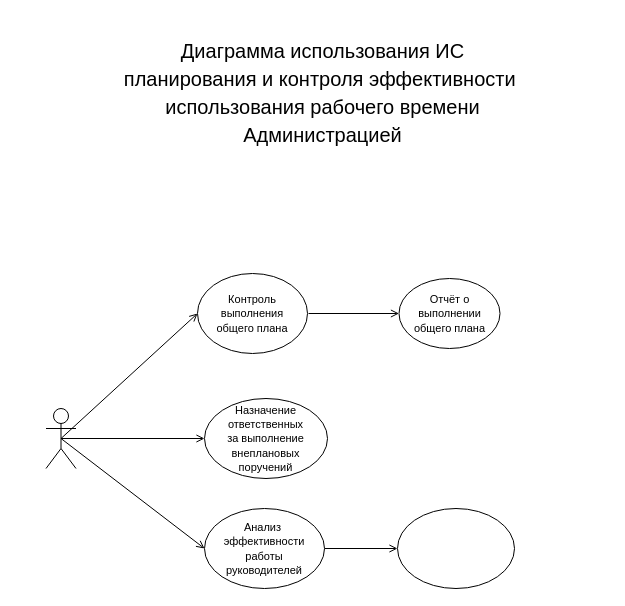
Some shapes in this 625 by 606 pixel diagram are drawn without their labels. The centre of each missing label's shape, as x and y in pixels:
Администрация: [60,438]
Поощрение или наказание руководителей: [455,548]
